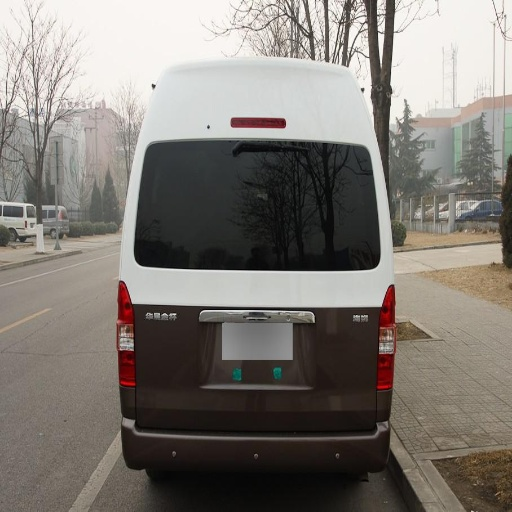back_bumper: (122, 414, 242, 468), (279, 419, 390, 467)
back_right_light: (376, 286, 398, 391)
